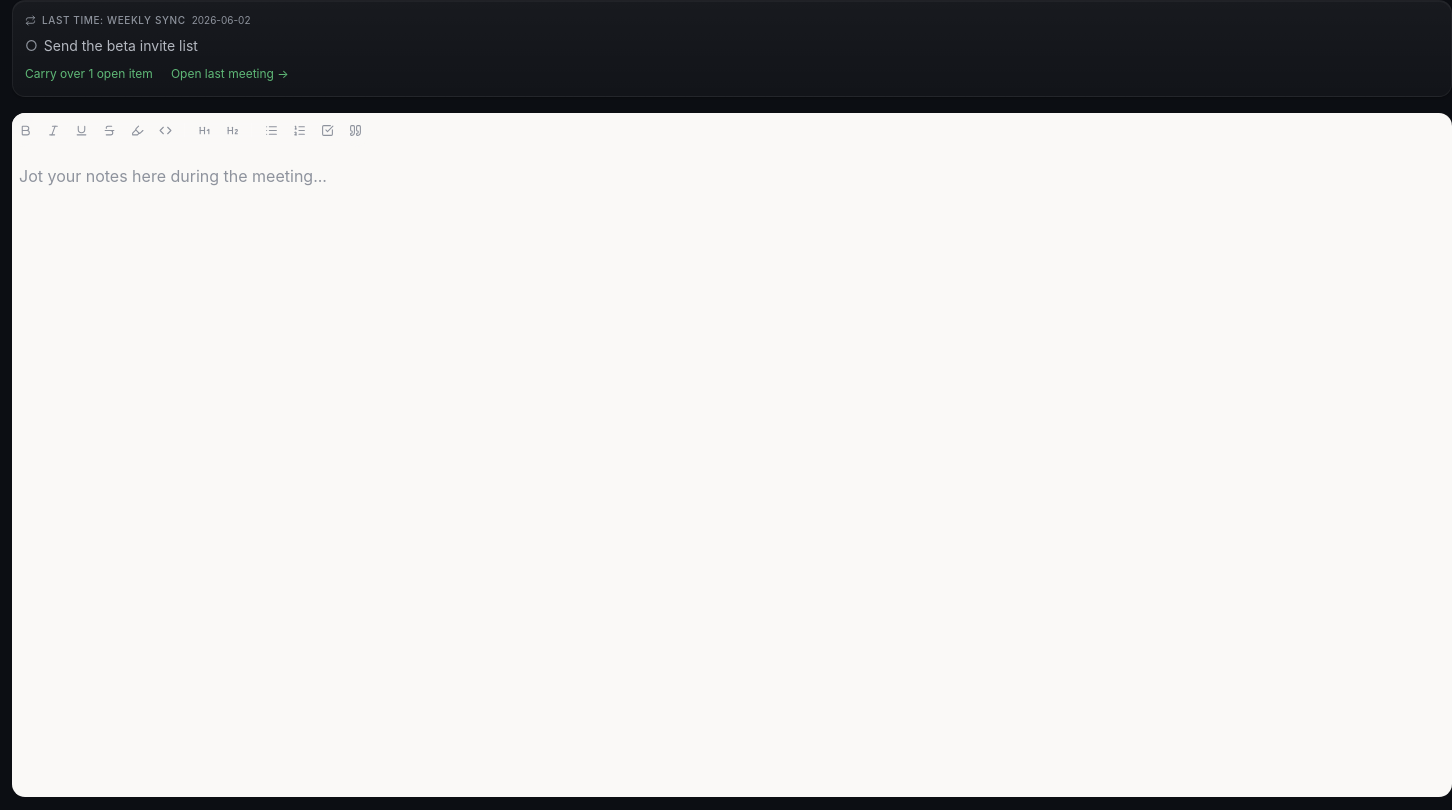
Scenario: Last time card › carries open items into this note as a checklist, not actionItems
Click the button "Carry over 1 open item": (89, 74) [19, 64, 159, 84]
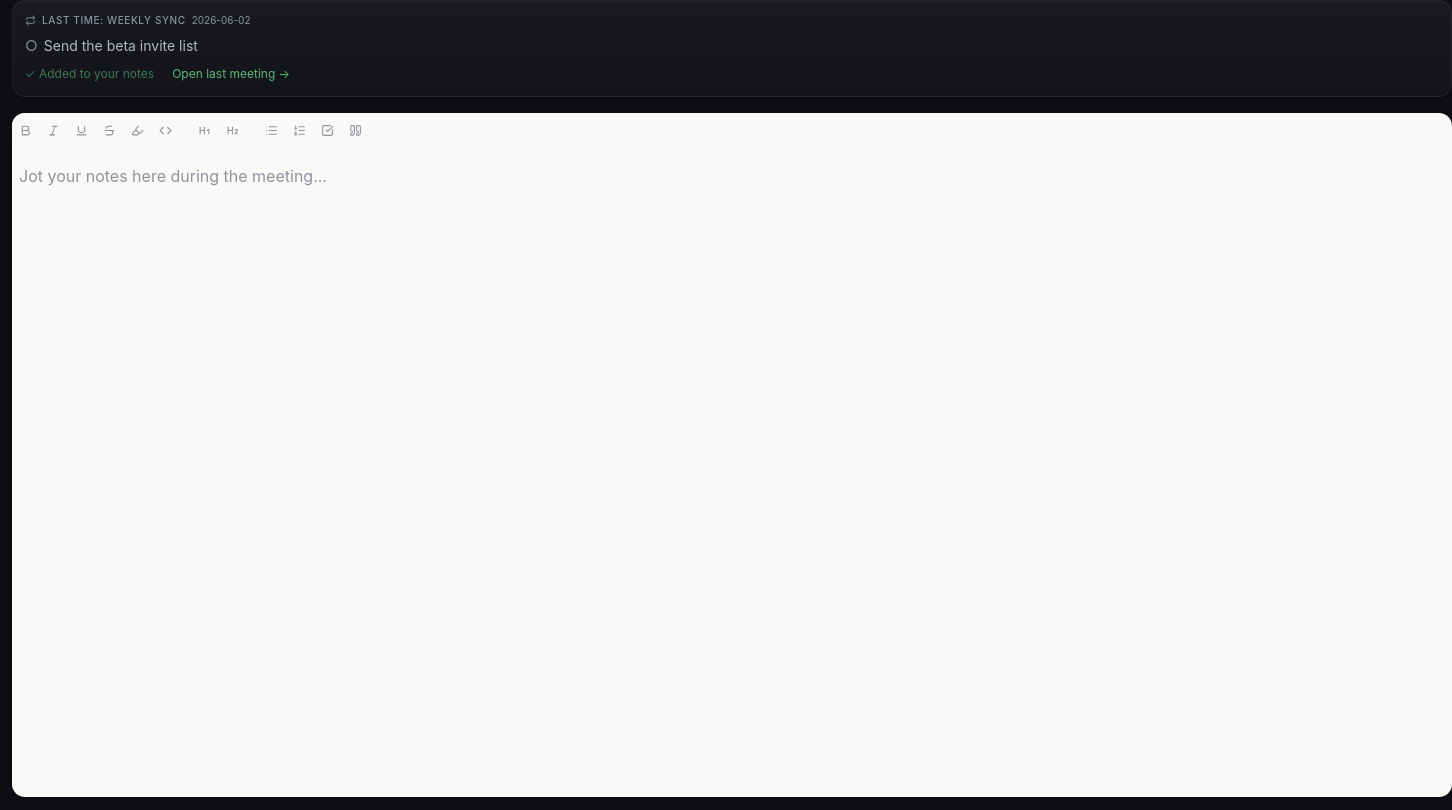
Result: the button "✓ Added to your notes" is shown at [19, 64, 160, 84]
